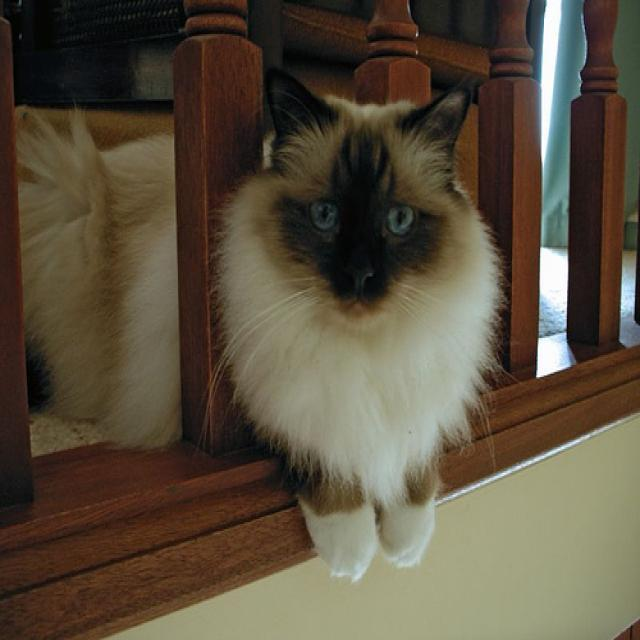Birman: (255, 53, 481, 372)
